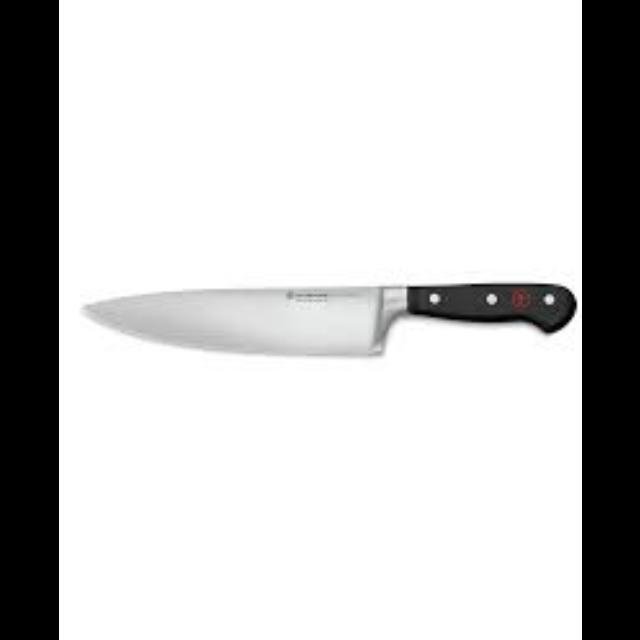Knife: (76, 282, 576, 356)
